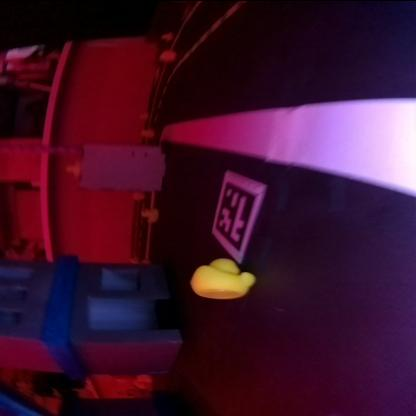Duckie: (190, 258, 254, 298), (66, 159, 80, 177), (160, 48, 174, 61), (142, 209, 158, 220), (164, 31, 172, 39)
QR code: (210, 170, 258, 260)
